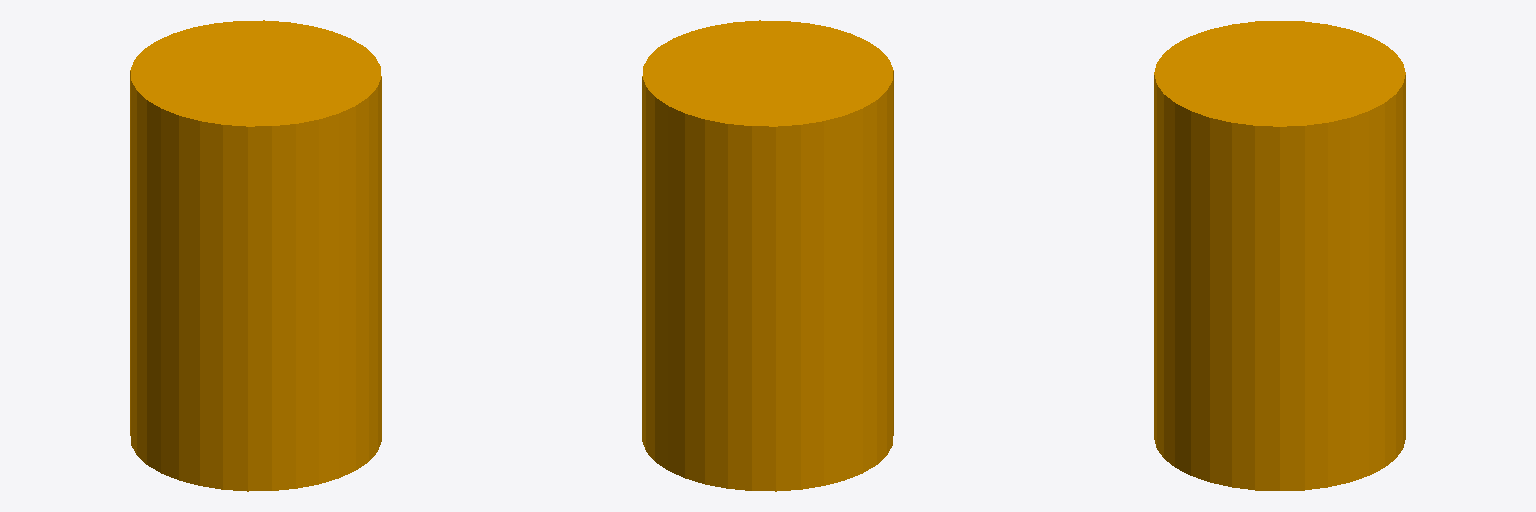
robot.urdf — cylinder:
<?xml version="1.0"?>
<robot name="cylinder">

  <link name="cylinder">
    <collision>
      <origin xyz="0.0 0.0 0.0" rpy="0 0 0"/>
      <geometry>
        <cylinder radius="0.025" length="0.08"/>
      </geometry>
      <surface>
        <contact>
          <collide_without_contact>false</collide_without_contact>
        </contact>
      </surface>
    </collision>

    <visual>
      <origin xyz="0.0 0.0 0.0" rpy="0 0 0"/>
      <geometry>
        <cylinder radius="0.025" length="0.08"/>
      </geometry>
    </visual>

    <inertial>
      <origin xyz="0.0 0.0 0.0" rpy="0 0 0"/>
      <mass value="0.1"/>
      <inertia
        ixx="0.000015" ixy="0.0" ixz="0.0"
        iyy="0.000015" iyz="0.0"
        izz="0.000015"/>
    </inertial>
  </link>

  <gazebo reference="cylinder">
    <material>Gazebo/Green</material>
    <mu1>100.0</mu1> 
    <mu2>100.0</mu2>
    <selfCollide>false</selfCollide>
  </gazebo>

</robot>

--- Render facts (derived) ---
3 views of the same robot in one strip: view 1: azimuth 30°, elevation 25°; view 2: azimuth 150°, elevation 25°; view 3: azimuth 270°, elevation 25° (orthographic).
Model cylinder with 1 links and 0 joints (none), rooted at cylinder, posed all joints at 0.
Visible links, largest first — view 1: cylinder; view 2: cylinder; view 3: cylinder.
Boxes of the visible links, x1,y1,x2,y2 form: cylinder: (130,20,381,491); cylinder: (642,20,893,491); cylinder: (1154,21,1405,490).
Size in the robot's own frame: 0.05 by 0.05 by 0.08 metres.
Geometry: primitives only (box / cylinder / sphere), no mesh files.